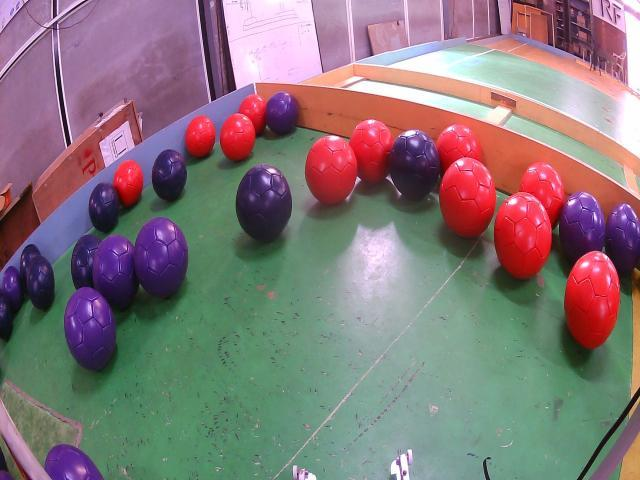jambhalya: (134, 217, 189, 298), (64, 287, 116, 370), (92, 235, 139, 310), (559, 192, 605, 263), (605, 203, 640, 275), (45, 443, 104, 480), (265, 92, 298, 135), (2, 267, 24, 312)
kaalyya: (235, 165, 292, 242), (389, 130, 440, 200), (151, 150, 188, 202), (71, 235, 101, 290), (26, 255, 55, 310), (89, 182, 120, 232), (20, 243, 40, 289), (0, 292, 12, 340)
